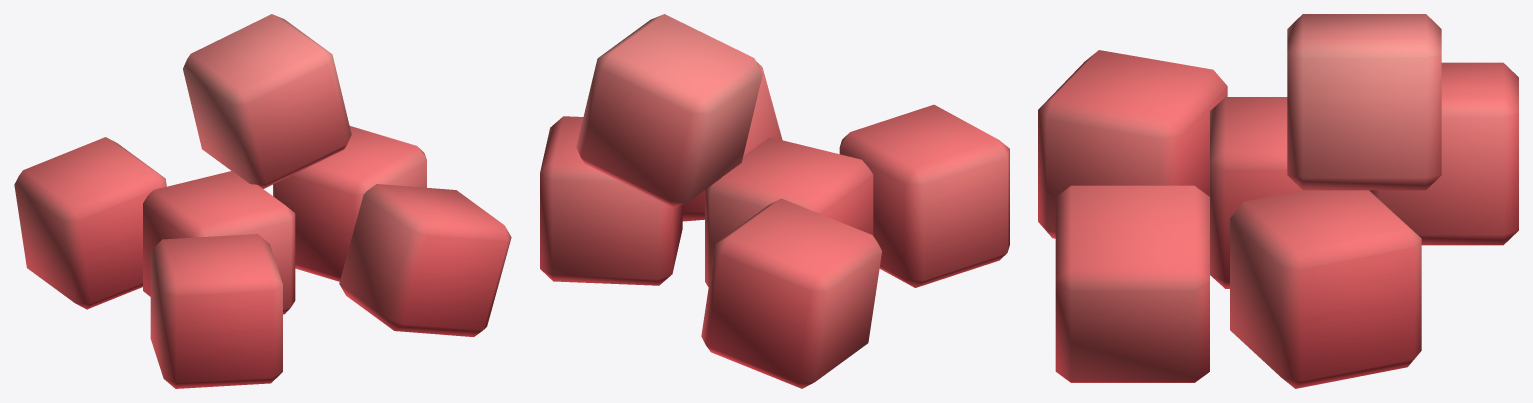
The model's file is kaykit-restaurant-bits-food-ingredient-steak-pieces.glb.
The picture shows the model from 3 angles, left to right: view 1: azimuth 30°, elevation 25°; view 2: azimuth 150°, elevation 25°; view 3: azimuth 270°, elevation 25°; orthographic projection. The views are drawn at different scales.
Parts seen in each view (by area): view 1: food_ingredient_steak_pieces; view 2: food_ingredient_steak_pieces; view 3: food_ingredient_steak_pieces.
Boxes of the visible parts, x1,y1,x2,y2 form: food_ingredient_steak_pieces: [14, 14, 511, 388]; food_ingredient_steak_pieces: [540, 14, 1009, 388]; food_ingredient_steak_pieces: [1038, 14, 1518, 388].
Bounding box in the file's own units: 0.647 × 0.4348 × 0.6228.
Materials: 1 (1 with a texture image).
